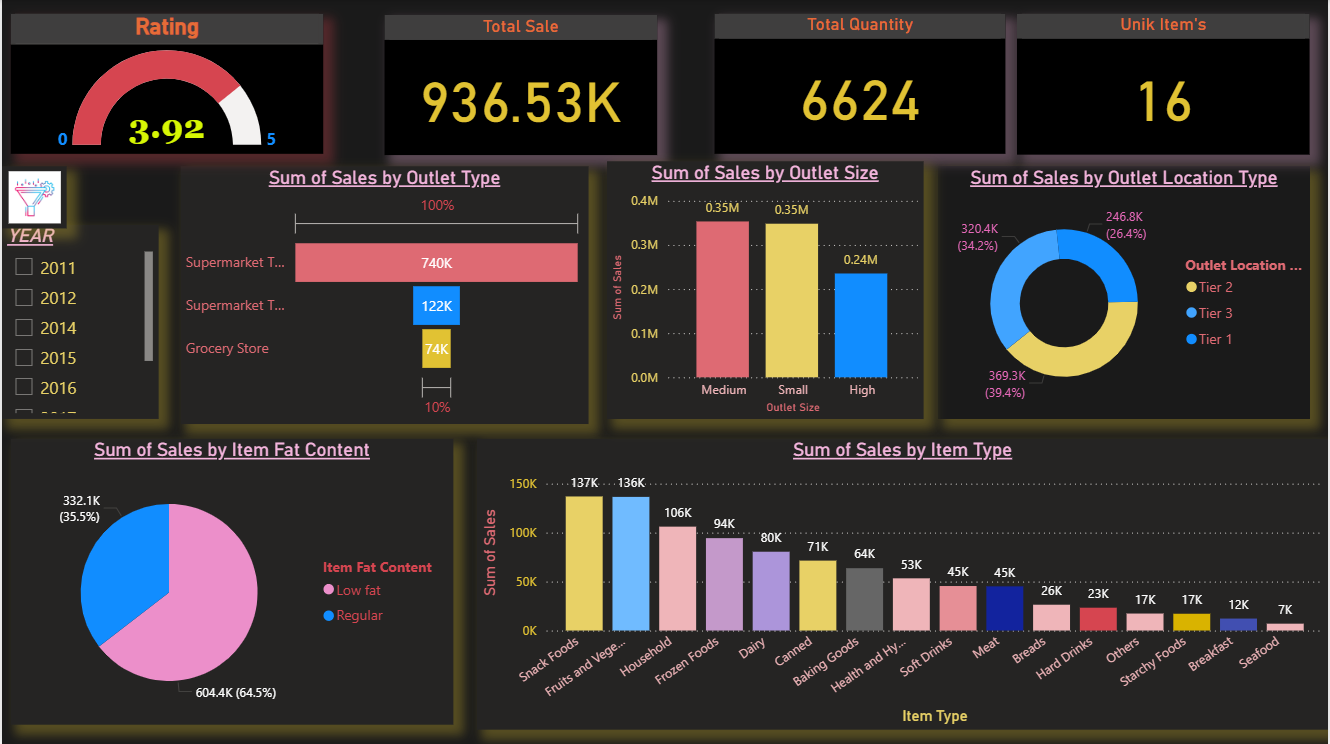

The page's visual inventory and layout, read from the dashboard file:
{"tool":"powerbi","page":{"name":"Page 1","canvas":[1280,720],"ordinal":0},"visuals":[{"type":"card","title":"Total Sale","fields":{"Values":["Sum(BlinkIT Grocery Data.Sales)"]},"box":[369.2,14.5,263,135.1],"z":0},{"type":"card","title":"Total Quantity","fields":{"Values":["CountNonNull(BlinkIT Grocery Data.Item Visibility)"]},"box":[687.7,13.3,281.1,135.1],"z":1000},{"type":"donutChart","fields":{"Category":["BlinkIT Grocery Data.Outlet Location Type"],"Y":["Sum(BlinkIT Grocery Data.Sales)"]},"box":[903.6,160.5,358.3,243.7],"z":2000},{"type":"funnel","fields":{"Category":["BlinkIT Grocery Data.Outlet Type"],"Y":["Sum(BlinkIT Grocery Data.Sales)"]},"box":[172.5,160.5,393.3,248.5],"z":3000},{"type":"columnChart","fields":{"Category":["BlinkIT Grocery Data.Item Type"],"Y":["Sum(BlinkIT Grocery Data.Sales)"]},"box":[458.4,423.5,821.6,281.1],"z":4000},{"type":"columnChart","fields":{"Category":["BlinkIT Grocery Data.Outlet Size"],"Y":["Sum(BlinkIT Grocery Data.Sales)"]},"box":[583.9,155.6,305.2,248.5],"z":5000},{"type":"pieChart","fields":{"Category":["BlinkIT Grocery Data.Item Fat Content"],"Y":["Sum(BlinkIT Grocery Data.Sales)"]},"box":[8.4,423.5,427.1,276.3],"z":6000},{"type":"gauge","title":"Rating","fields":{"Y":["Avg(BlinkIT Grocery Data.Rating)"]},"box":[8.4,13.3,301.6,135.1],"z":7000},{"type":"card","title":"Unik Item''s","fields":{"Values":["Count(BlinkIT Grocery Data.Item Type)"]},"box":[979.6,13.3,282.3,136.3],"z":8000},{"type":"slicer","title":"YEAR","fields":{"Values":["BlinkIT Grocery Data.Outlet Establishment Year"]},"box":[0,217.2,150.8,187],"z":9000},{"type":"image","box":[0,160.5,62.7,60.3],"z":10000}]}

Visuals, with their boxes in screenshot pixels (x1, y1, x2, y2), scaled from the page's 1280x720 canvas onto the 1330x744 screenshot:
"Total Sale" card: bbox=[384, 15, 657, 155]
"Total Quantity" card: bbox=[715, 14, 1007, 153]
donutChart - BlinkIT Grocery Data.Outlet Location Type x Sum(BlinkIT Grocery Data.Sales): bbox=[939, 166, 1311, 418]
funnel - BlinkIT Grocery Data.Outlet Type x Sum(BlinkIT Grocery Data.Sales): bbox=[179, 166, 588, 423]
columnChart - BlinkIT Grocery Data.Item Type x Sum(BlinkIT Grocery Data.Sales): bbox=[476, 438, 1329, 728]
columnChart - BlinkIT Grocery Data.Outlet Size x Sum(BlinkIT Grocery Data.Sales): bbox=[607, 161, 924, 418]
pieChart - BlinkIT Grocery Data.Item Fat Content x Sum(BlinkIT Grocery Data.Sales): bbox=[9, 438, 453, 723]
"Rating" gauge: bbox=[9, 14, 322, 153]
"Unik Item''s" card: bbox=[1018, 14, 1311, 155]
"YEAR" slicer: bbox=[0, 224, 157, 418]
image: bbox=[0, 166, 65, 228]
